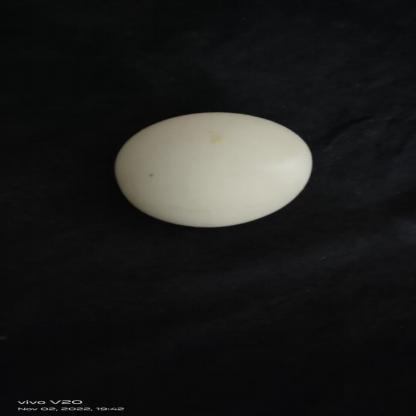egg: (111, 110, 314, 228)
